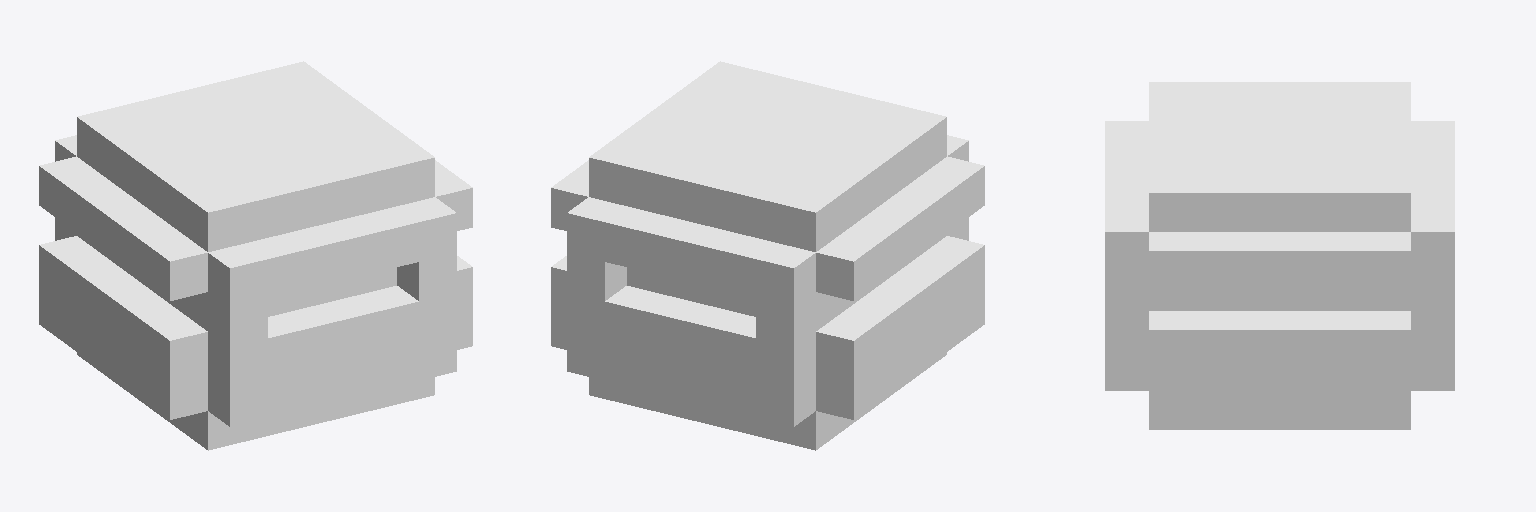
Rendered from crate-2.obj.
3 renders of one model, left to right at view 1: azimuth 30°, elevation 25°; view 2: azimuth 150°, elevation 25°; view 3: azimuth 270°, elevation 25°, orthographic.
Size of the model in its own units: 8 by 6 by 8.